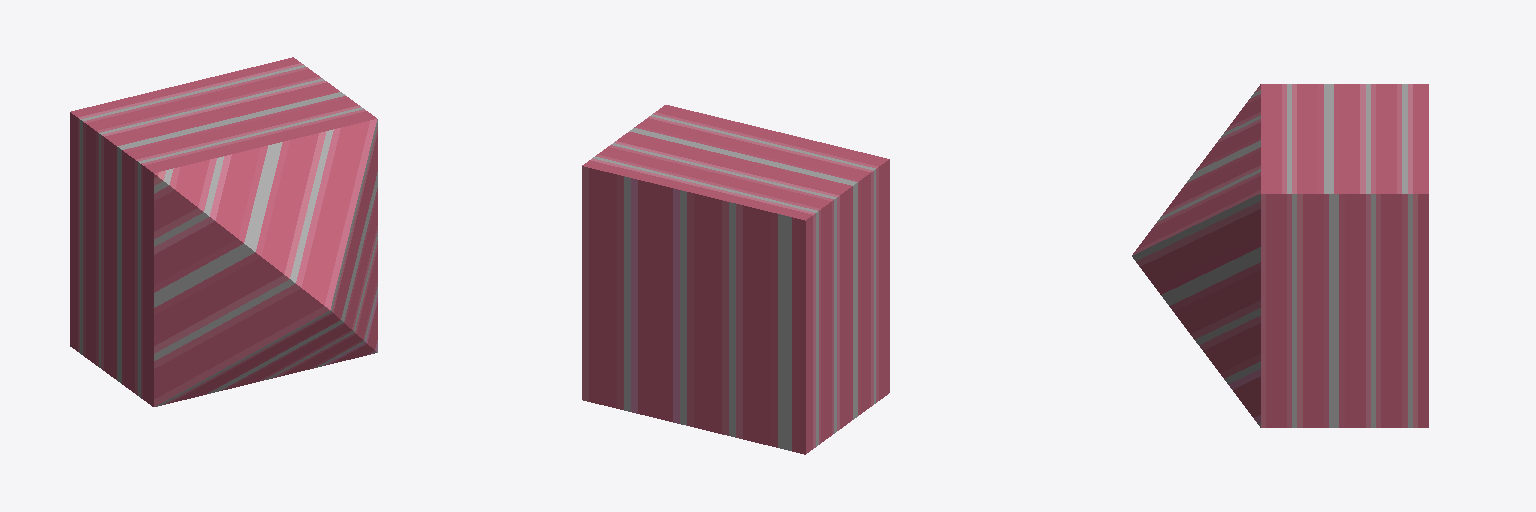
3 views of the same model, side by side, from view 1: azimuth 30°, elevation 25°; view 2: azimuth 150°, elevation 25°; view 3: azimuth 270°, elevation 25° (orthographic).
Parts seen in each view (by area): view 1: 立方体; view 2: 立方体; view 3: 立方体.
Part boxes in pixels (x1,y1,x2,y2): 立方体: (70,57,377,406); 立方体: (582,105,889,454); 立方体: (1132,84,1428,427).
Bounding box in the file's own units: 2 × 2 × 2.3.
Materials: 1 (1 with a texture image).